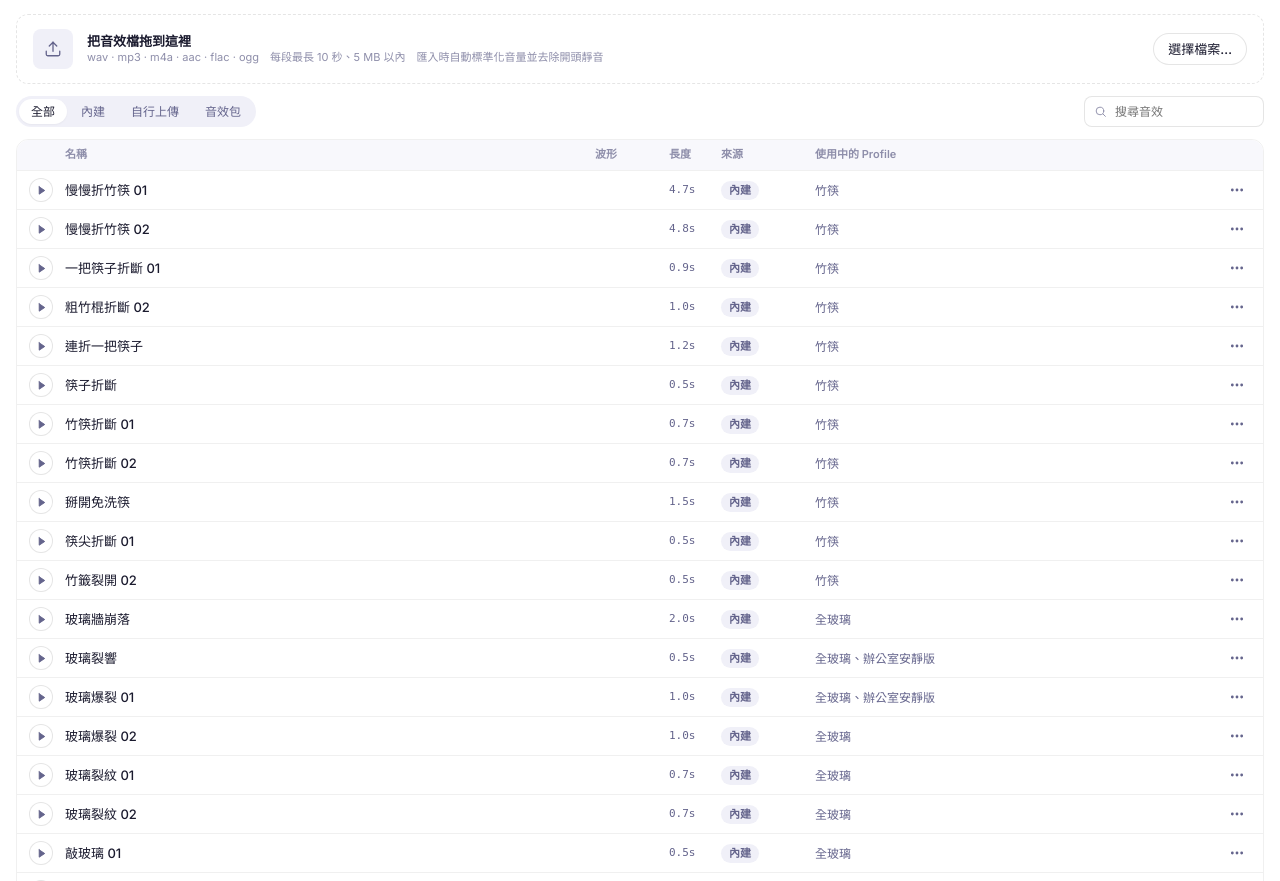
LibraryPage › filters by source and searches
Click the tab "自行上傳" at (155, 112), box [119,99,191,124]
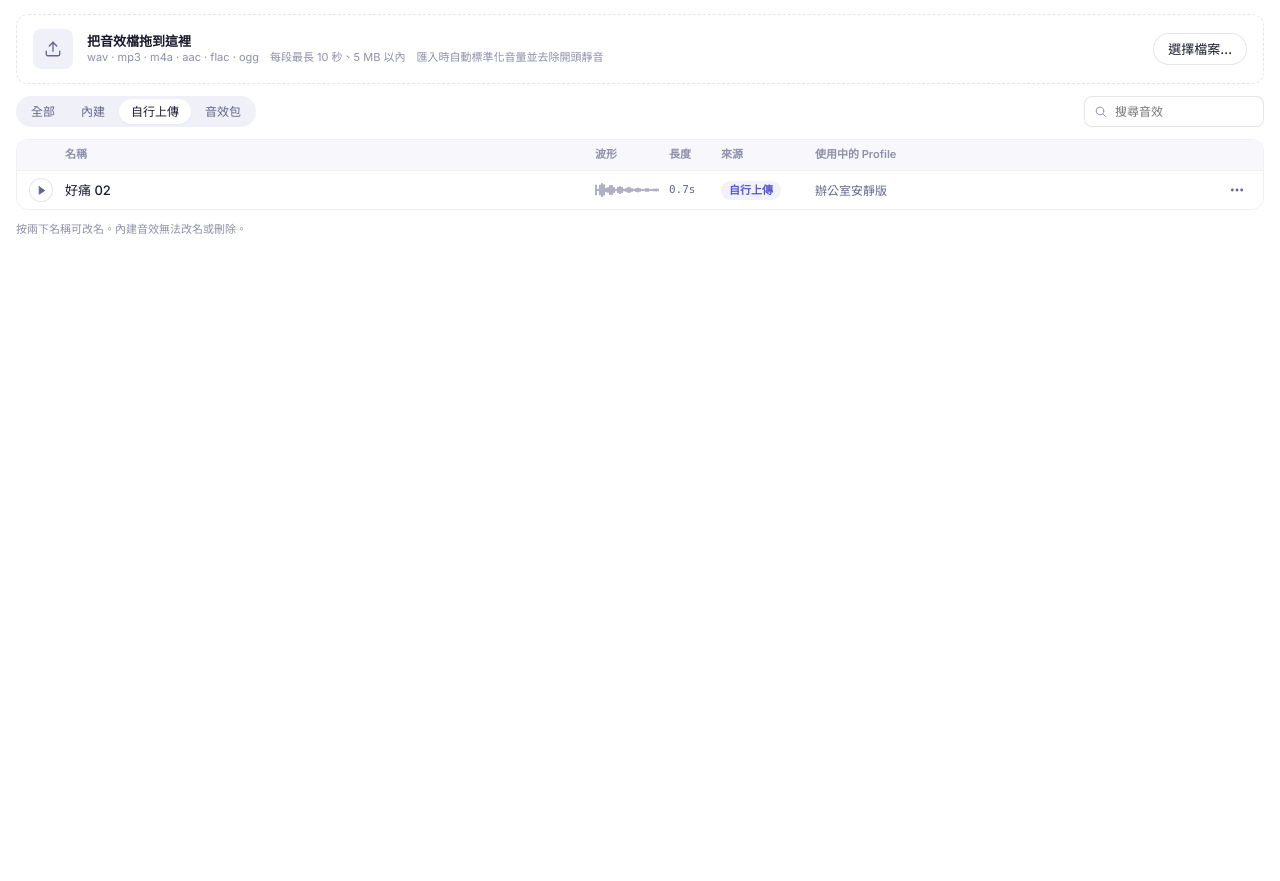
Expected: the number of rows is 2, [17,140,1263,170]; [17,170,1263,209]
Click the tab "全部" at (43, 112), box [19,99,67,124]
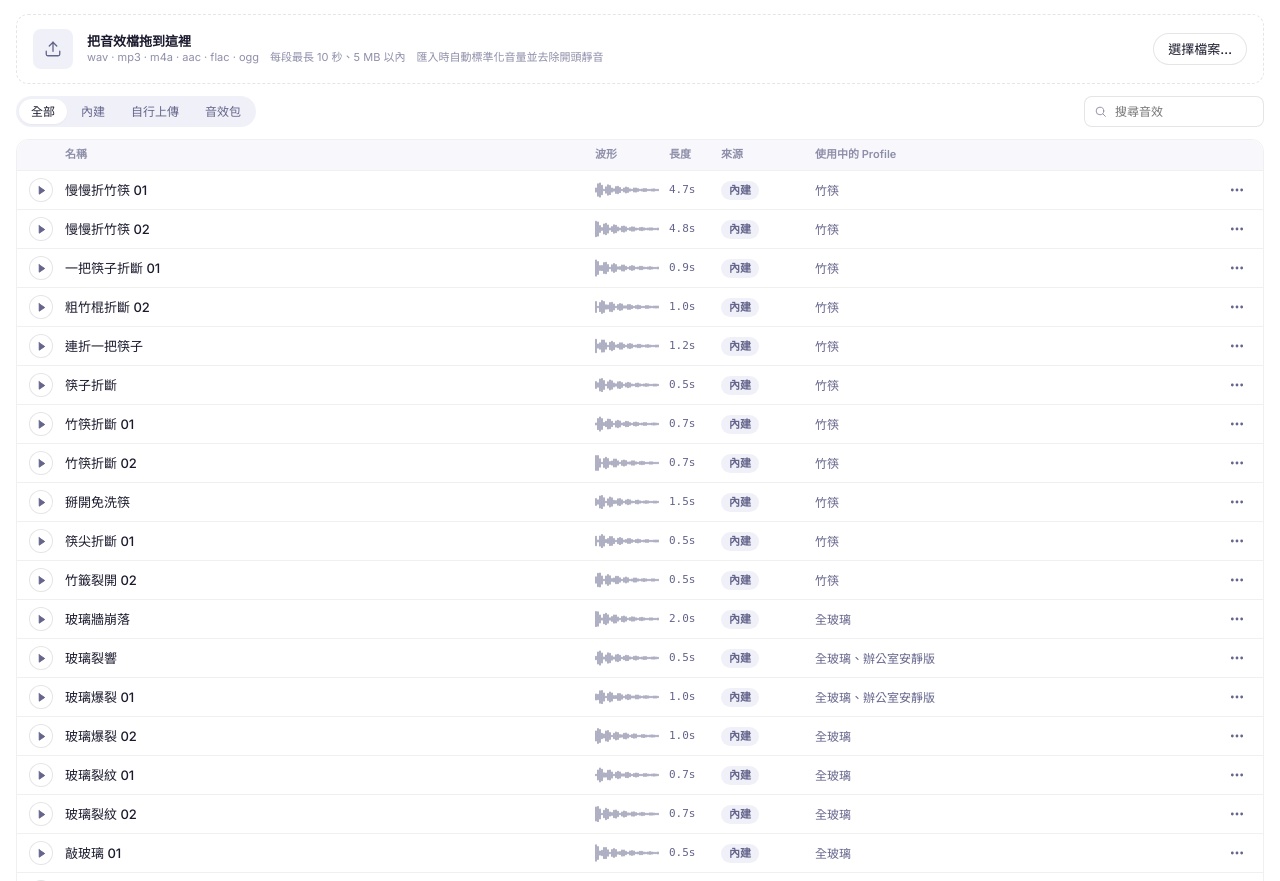
Type "玻璃" into the search field labelled "搜尋音效" at (1174, 112), box [1084,96,1264,127]
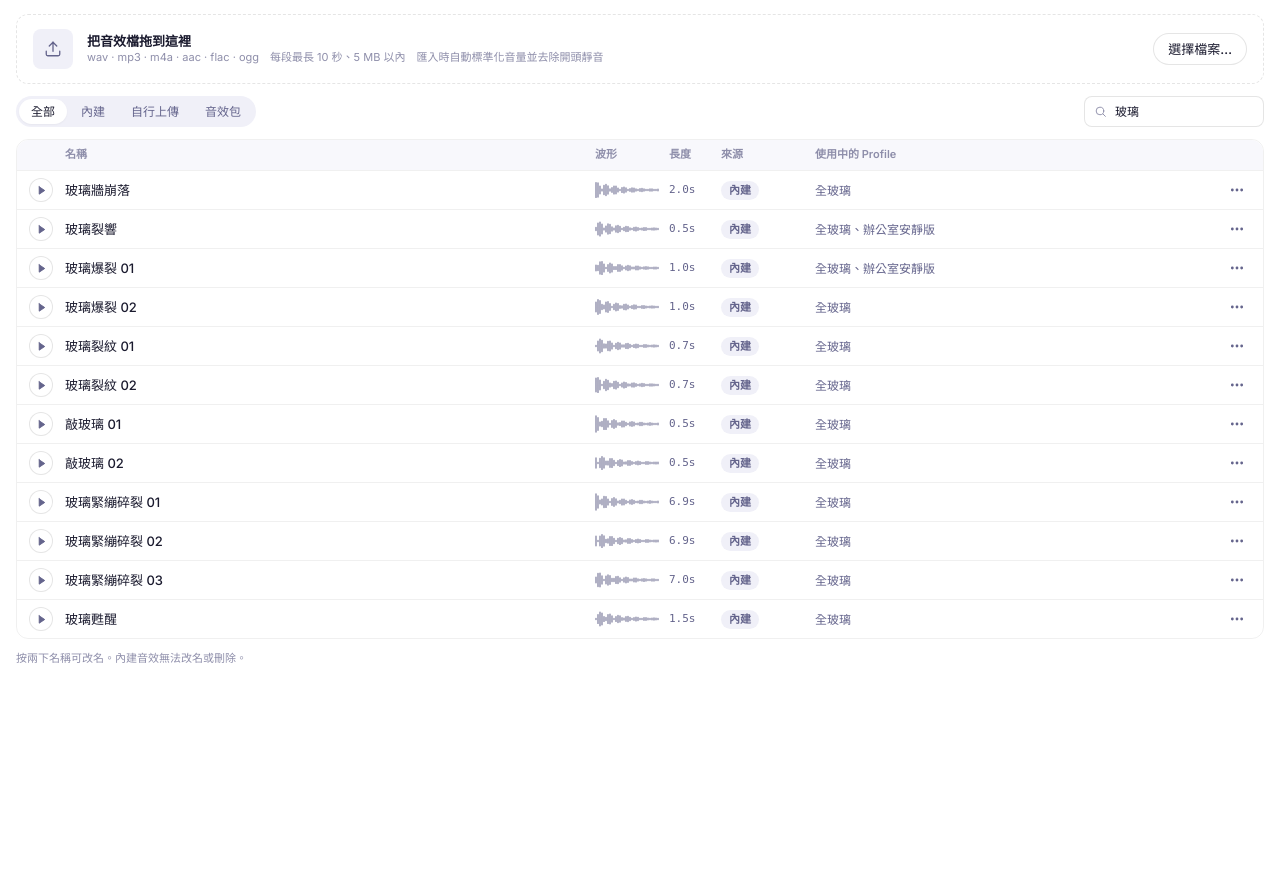
Expected: the number of rows is 13
Replace the text in the search field named "搜尋音效" with "鴨子" at (1174, 112), box [1084,96,1264,127]
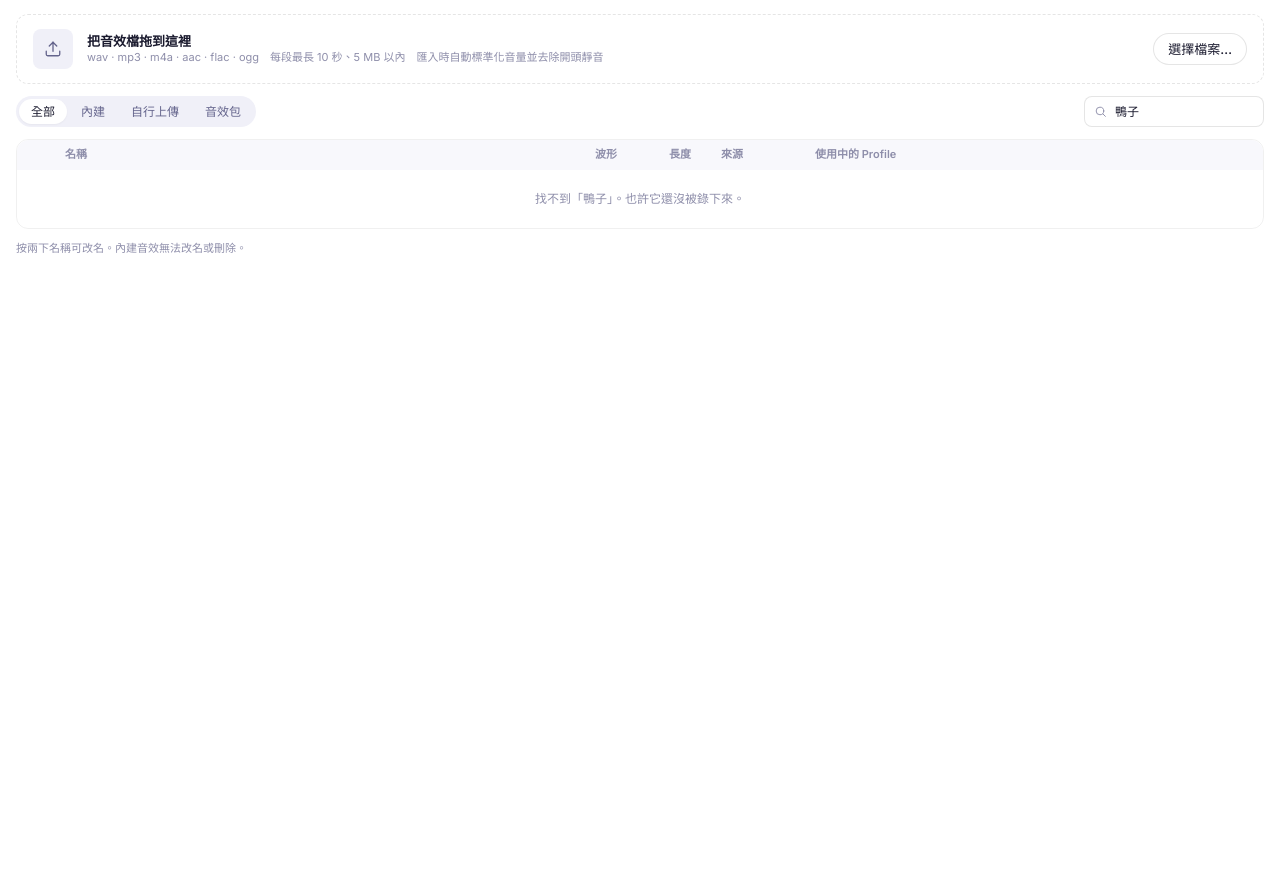
Expected: the text "找不到「鴨子」。也許它還沒被錄下來。" is shown, [535,191,745,206]
